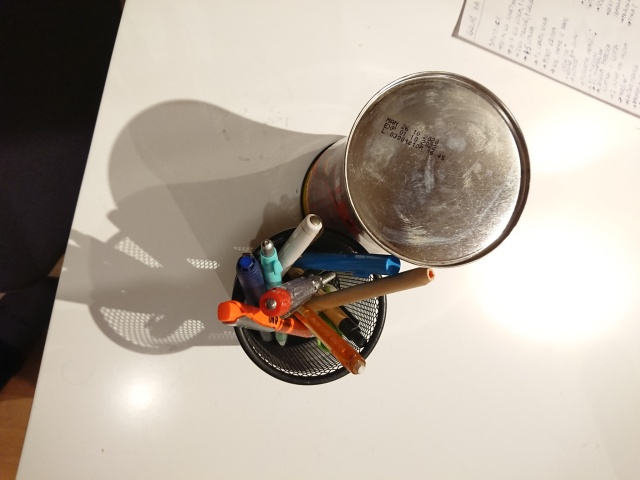Nescafe Classic 225g: (296, 68, 534, 281)
